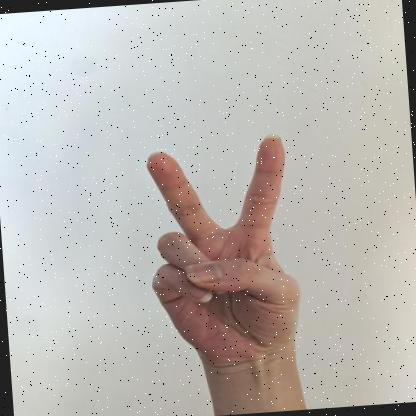V: (147, 135, 300, 374)
